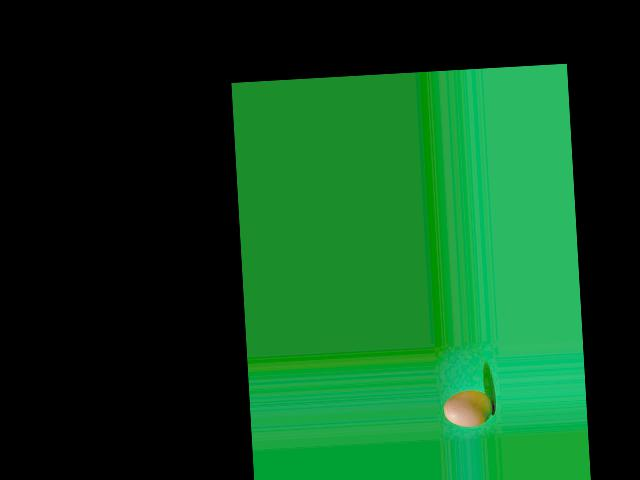egg: (443, 388, 494, 428)
